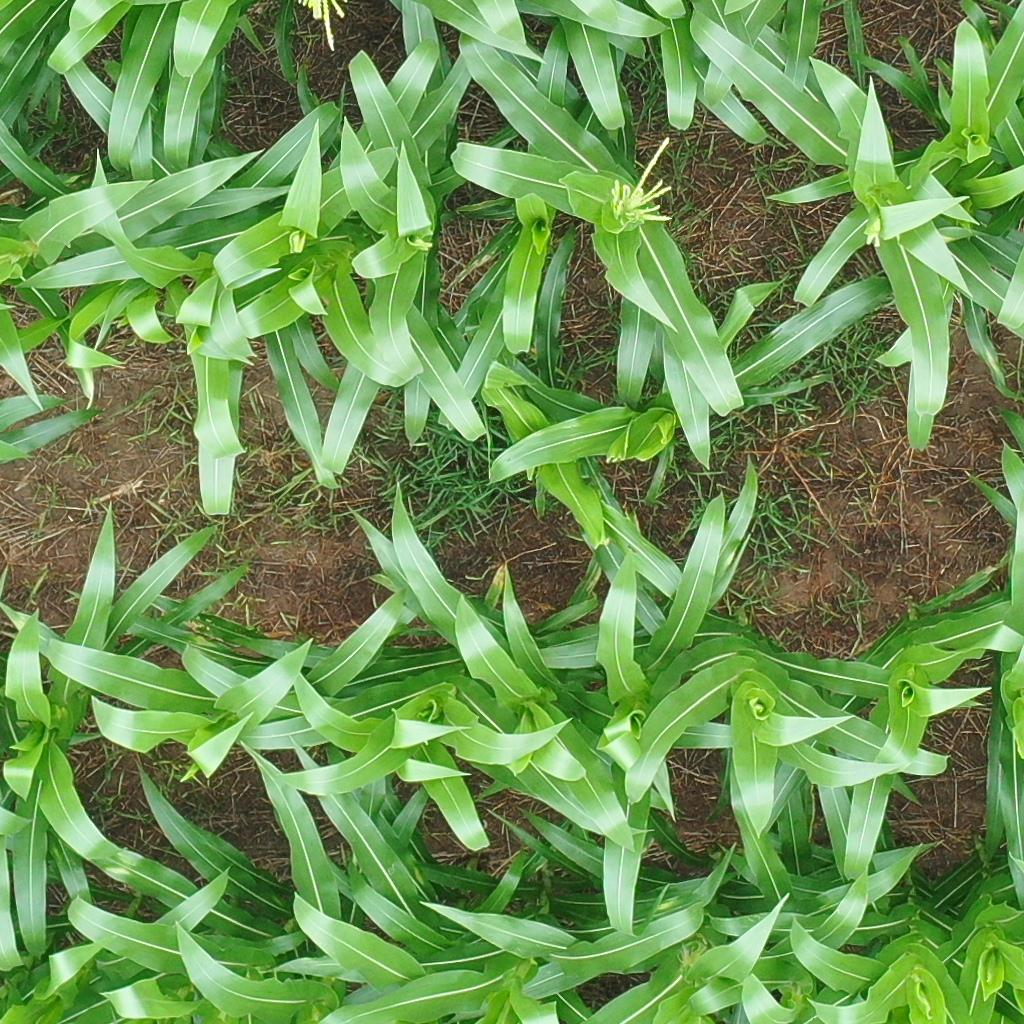Tassel: (607, 135, 678, 229), (294, 1, 349, 56), (864, 208, 888, 252), (404, 230, 434, 257), (287, 229, 303, 255)
